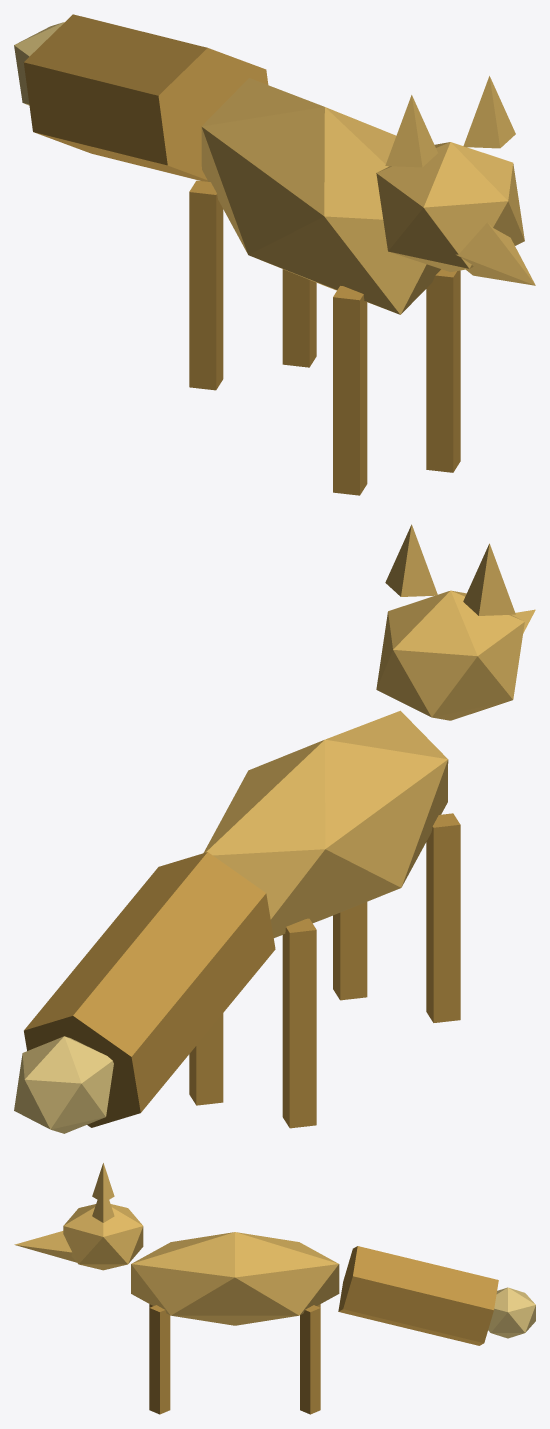
File: gold_fox.glb
3 renders of one model, top to bottom at view 1: azimuth 30°, elevation 25°; view 2: azimuth 150°, elevation 25°; view 3: azimuth 270°, elevation 25°, orthographic. The views are drawn at different scales.
Parts seen in each view (by area): view 1: golden body, brush tail, golden head.001, fox leg, fox leg.002, fox leg.001, fox leg.003, golden snout, pointed ear.001, pointed ear, tail tip; view 2: brush tail, golden body, golden head.001, tail tip, fox leg.002, fox leg, fox leg.001, fox leg.003, pointed ear, pointed ear.001; view 3: golden body, brush tail, golden head.001, fox leg.001, fox leg.003, tail tip, golden snout, pointed ear.001, pointed ear.
Boxes of the visible parts, left/top/right/bottom form: golden body: left=201, top=78, right=440, bottom=314; brush tail: left=23, top=14, right=268, bottom=181; golden head.001: left=376, top=142, right=524, bottom=272; fox leg: left=333, top=286, right=367, bottom=495; fox leg.002: left=189, top=180, right=223, bottom=390; fox leg.001: left=426, top=269, right=460, bottom=472; fox leg.003: left=282, top=269, right=316, bottom=367; golden snout: left=456, top=222, right=535, bottom=285; pointed ear.001: left=463, top=76, right=515, bottom=148; pointed ear: left=385, top=95, right=437, bottom=167; tail tip: left=14, top=22, right=64, bottom=105; brush tail: left=24, top=852, right=275, bottom=1127; golden body: left=203, top=710, right=448, bottom=937; golden head.001: left=376, top=590, right=524, bottom=720; tail tip: left=14, top=1036, right=113, bottom=1133; fox leg.002: left=282, top=918, right=316, bottom=1128; fox leg: left=426, top=813, right=460, bottom=1022; fox leg.001: left=333, top=902, right=367, bottom=1000; fox leg.003: left=189, top=1013, right=223, bottom=1105; pointed ear: left=463, top=543, right=515, bottom=615; pointed ear.001: left=385, top=524, right=437, bottom=596; golden body: left=131, top=1232, right=339, bottom=1325; brush tail: left=338, top=1246, right=498, bottom=1345; golden head.001: left=63, top=1204, right=143, bottom=1270; fox leg.001: left=149, top=1305, right=170, bottom=1414; fox leg.003: left=300, top=1305, right=320, bottom=1414; tail tip: left=488, top=1287, right=535, bottom=1338; golden snout: left=14, top=1231, right=76, bottom=1262; pointed ear.001: left=92, top=1183, right=114, bottom=1222; pointed ear: left=92, top=1163, right=114, bottom=1199.
Bounding box in the file's own units: 0.0984 × 0.265 × 0.5548.
